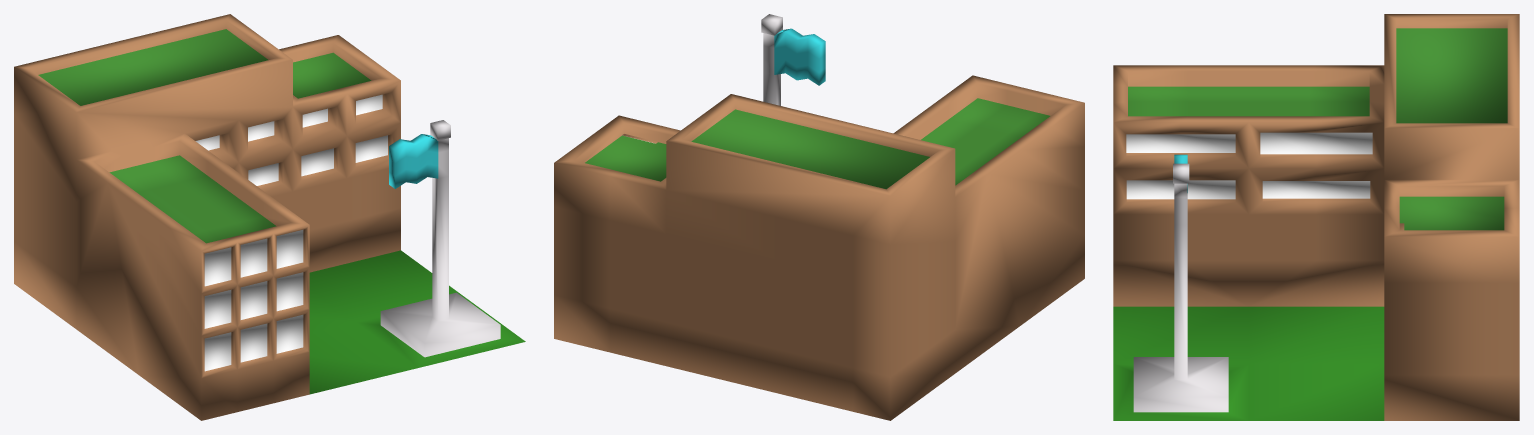
Rendered from escuela.glb.
The picture shows the model from 3 angles, left to right: view 1: azimuth 30°, elevation 25°; view 2: azimuth 150°, elevation 25°; view 3: azimuth 270°, elevation 25°; orthographic projection. The views are drawn at different scales.
Visible parts, largest first — view 1: escuela; view 2: escuela; view 3: escuela.
Part boxes in pixels (left/top/right/bottom): escuela: left=14, top=14, right=525, bottom=420; escuela: left=554, top=14, right=1084, bottom=420; escuela: left=1113, top=14, right=1519, bottom=420.
Size of the model in its own units: 8 by 5.11 by 8.
